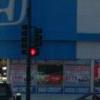Traffic light: (15, 20, 49, 65)
